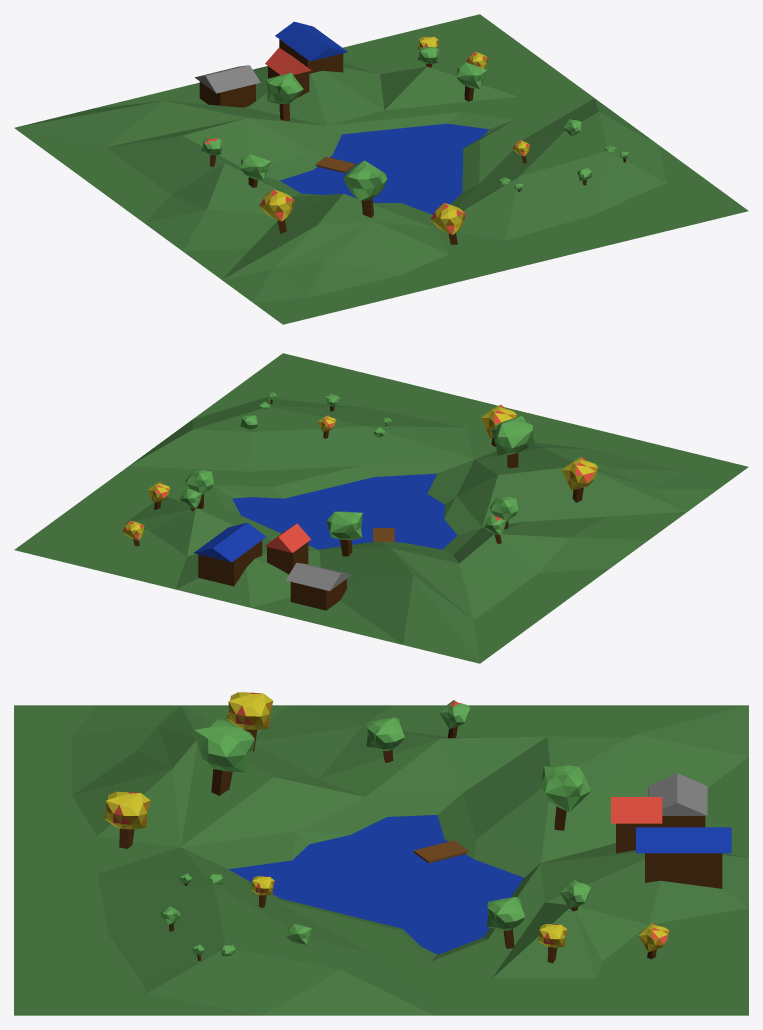
The model's file is landscapeSimple.fbx.
The picture shows the model from 3 angles, top to bottom: view 1: azimuth 30°, elevation 25°; view 2: azimuth 150°, elevation 25°; view 3: azimuth 270°, elevation 25°; orthographic projection. The views are drawn at different scales.
Visible parts, largest first — view 1: Cube; view 2: Cube; view 3: Cube.
Boxes of the visible parts, x1,y1,x2,y2 form: Cube: (14, 14, 748, 324); Cube: (14, 353, 748, 663); Cube: (14, 692, 748, 1015).
Size of the model in its own units: 2 by 0.423 by 2.
